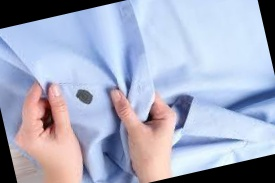ink: (76, 88, 93, 106)
